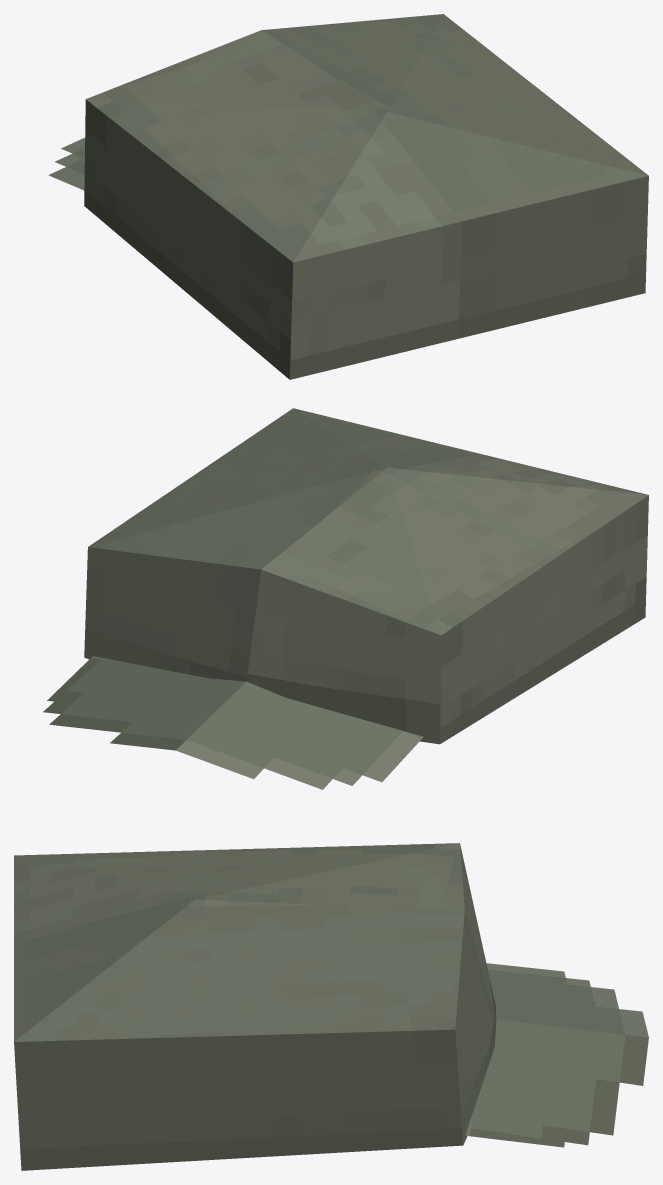
Rendered from cap_h.obj.
3 views of the same model, one above another, from view 1: azimuth 30°, elevation 25°; view 2: azimuth 150°, elevation 25°; view 3: azimuth 270°, elevation 25° (orthographic). The views are drawn at different scales.
Visible parts, largest first — view 1: mesh; view 2: mesh; view 3: mesh.
Boxes of the visible parts, x1,y1,x2,y2 form: mesh: (48, 14, 648, 379); mesh: (43, 408, 648, 789); mesh: (14, 843, 648, 1170).
Bounding box in the file's own units: 0.5813 × 0.2584 × 0.8362.
